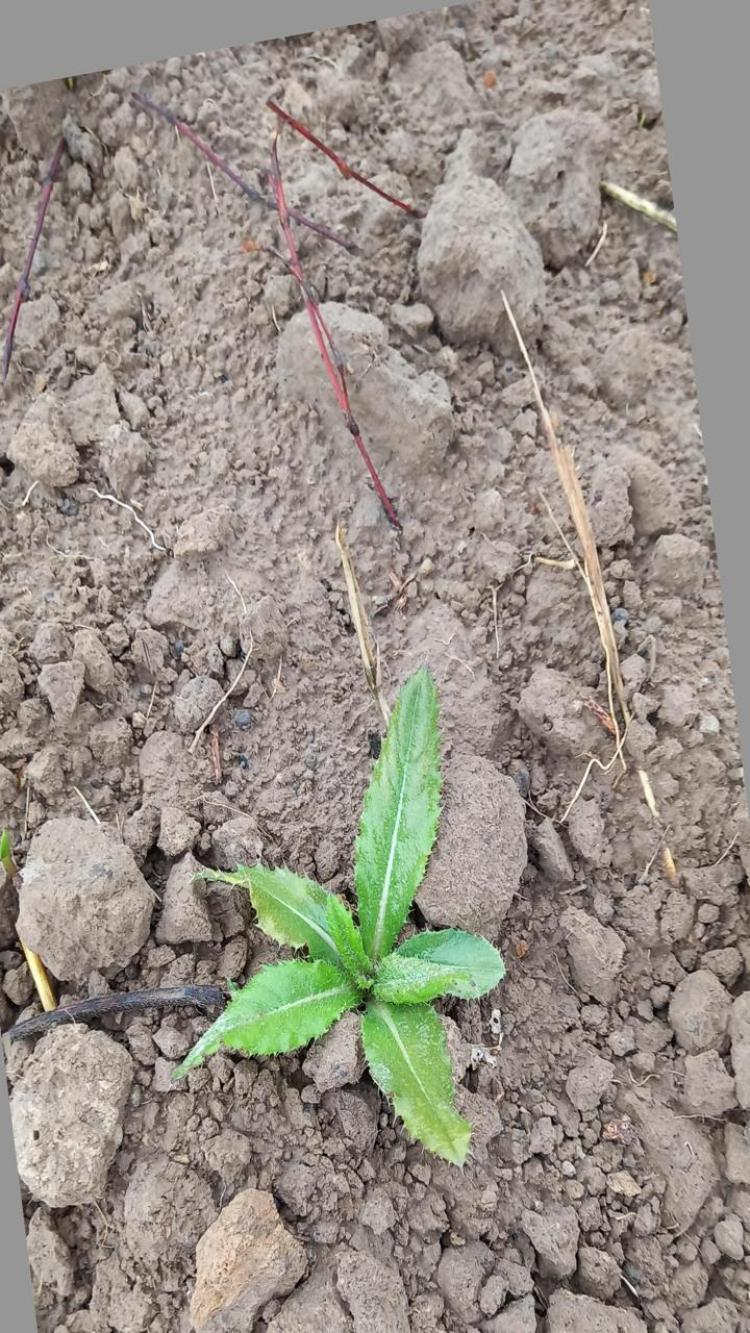bodyak: (171, 664, 506, 1172)
